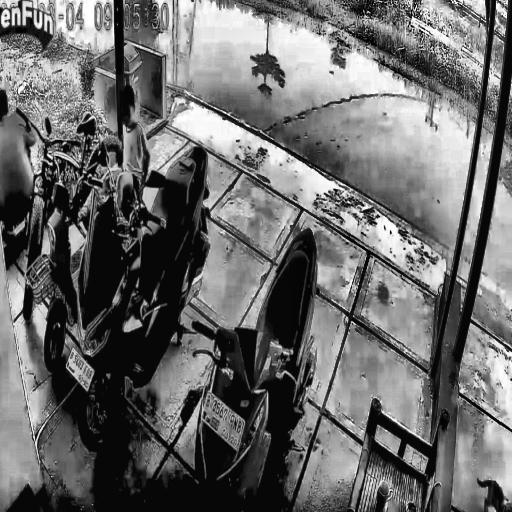siaga: (129, 0, 512, 511), (129, 336, 210, 477), (56, 0, 114, 56)
